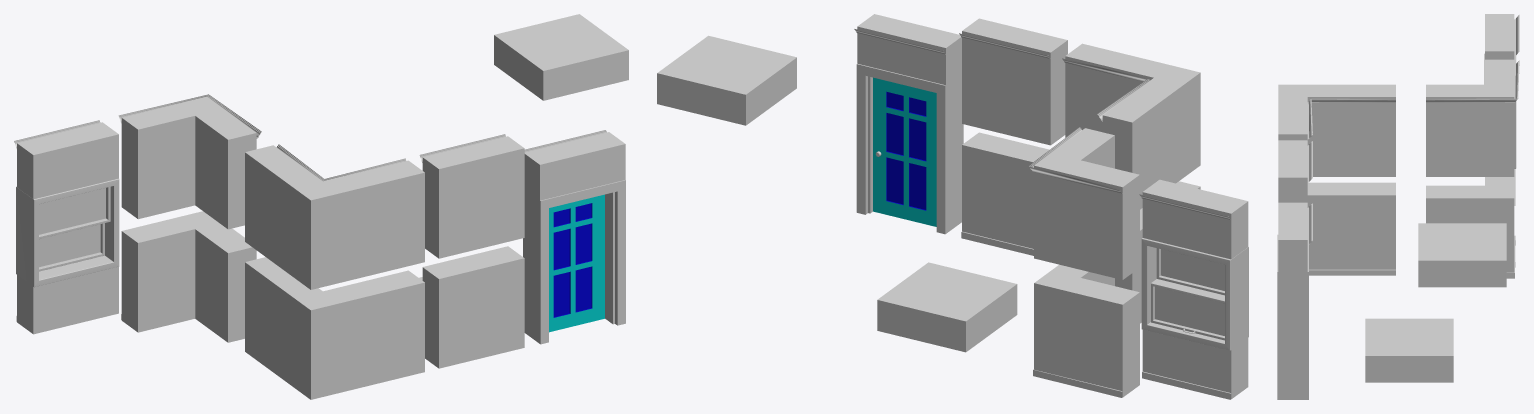
File: Pack2.fbx
3 renders of one model, left to right at view 1: azimuth 30°, elevation 25°; view 2: azimuth 150°, elevation 25°; view 3: azimuth 270°, elevation 25°, orthographic. The views are drawn at different scales.
Visible parts, largest first — view 1: wall (×4), Wall, wal, topWall (×2), Ceiling, frame, Door, bottomWall, Frame, glass1, glass, molding; view 2: wall (×4), Wall, wal, topWall (×2), Floor, Ceiling, Door, frame, bottomWall, Frame, glass, glass1 (+4 smaller); view 3: wall (×3), Wall, wal, Floor, Ceiling, frame, topWall (×2), Molding (×4), molding, Frame, topMolding.
Part boxes in pixels (x1=…): wall (×4): x1=121, y1=136, x2=524, y2=399; Wall: x1=245, y1=145, x2=424, y2=289; wal: x1=121, y1=97, x2=256, y2=229; topWall (×2): x1=17, y1=122, x2=625, y2=200; Ceiling: x1=494, y1=14, x2=628, y2=100; frame: x1=523, y1=180, x2=625, y2=344; Door: x1=549, y1=194, x2=604, y2=332; bottomWall: x1=17, y1=266, x2=118, y2=334; Frame: x1=16, y1=178, x2=119, y2=287; glass1: x1=39, y1=188, x2=105, y2=234; glass: x1=39, y1=224, x2=100, y2=267; molding: x1=118, y1=94, x2=261, y2=138; wall (×4): x1=962, y1=18, x2=1200, y2=397; Wall: x1=1065, y1=43, x2=1200, y2=209; wal: x1=1034, y1=128, x2=1139, y2=279; topWall (×2): x1=857, y1=14, x2=1248, y2=259; Floor: x1=877, y1=262, x2=1017, y2=352; Ceiling: x1=657, y1=35, x2=796, y2=125; Door: x1=873, y1=77, x2=936, y2=226; frame: x1=856, y1=63, x2=963, y2=234; bottomWall: x1=1142, y1=329, x2=1248, y2=399; Frame: x1=1141, y1=238, x2=1248, y2=350; glass: x1=1155, y1=286, x2=1224, y2=335; glass1: x1=1161, y1=249, x2=1224, y2=290; wall (×3): x1=1278, y1=140, x2=1514, y2=272; Wall: x1=1278, y1=84, x2=1395, y2=176; wal: x1=1426, y1=59, x2=1514, y2=176; Floor: x1=1365, y1=318, x2=1453, y2=382; Ceiling: x1=1418, y1=223, x2=1506, y2=287; frame: x1=1277, y1=234, x2=1308, y2=399; topWall (×2): x1=1278, y1=14, x2=1514, y2=271; Molding (×4): x1=1307, y1=98, x2=1395, y2=275; molding: x1=1426, y1=60, x2=1519, y2=102; Frame: x1=1484, y1=53, x2=1516, y2=168; topMolding: x1=1514, y1=14, x2=1519, y2=56.
Bounding box in the file's own units: 19.56 × 7.68 × 8.23.
